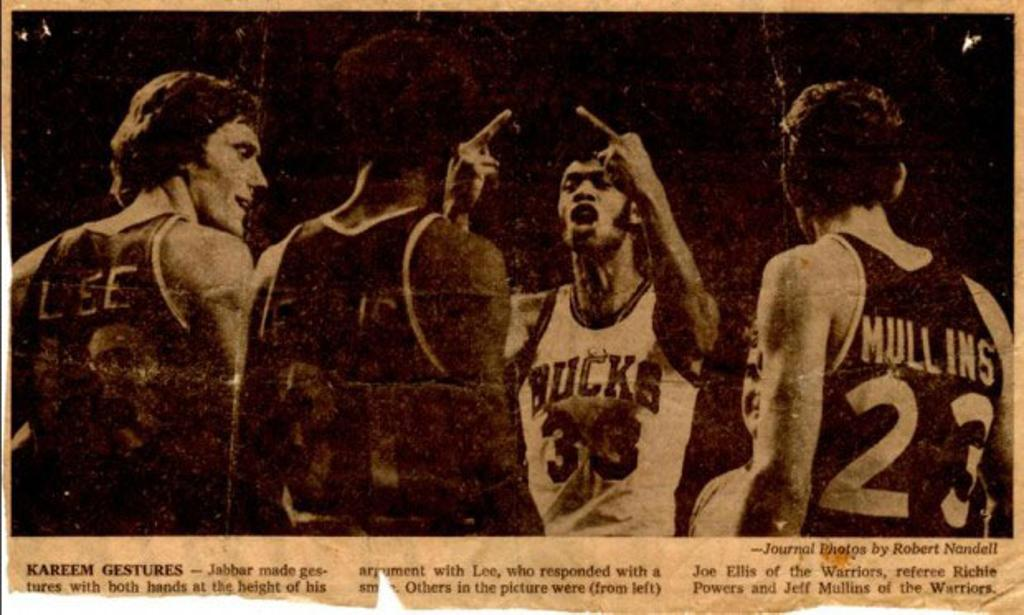face: (186, 114, 270, 232), (558, 156, 622, 250)
